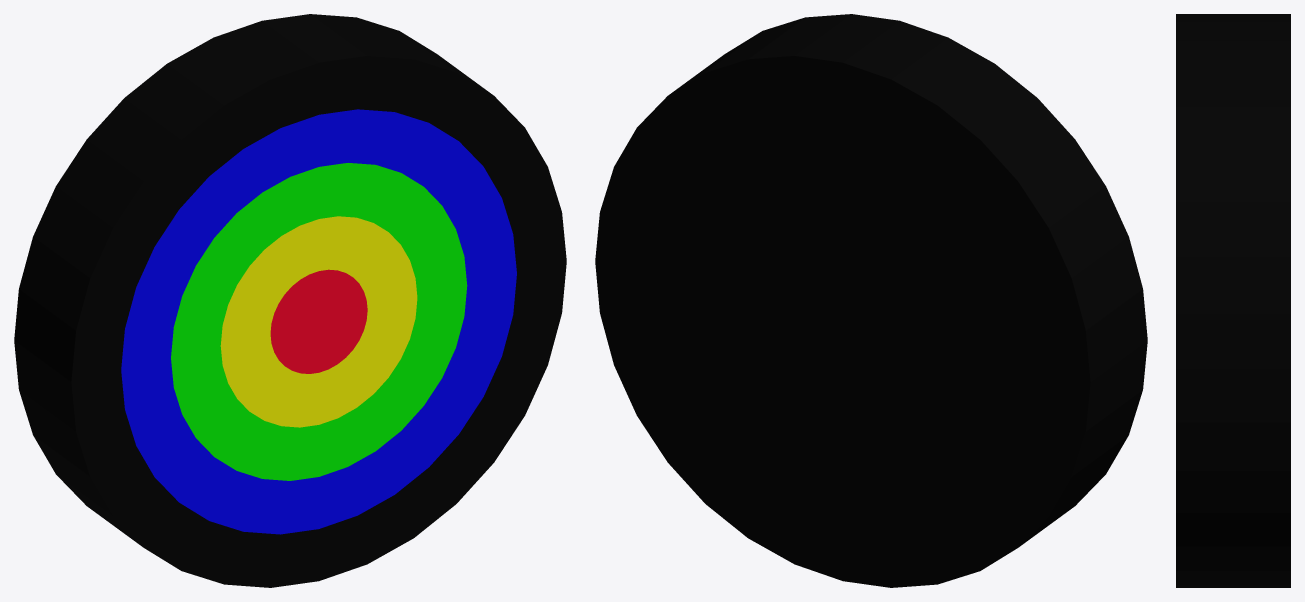
File: target.glb
The picture shows the model from 3 angles, left to right: view 1: azimuth 30°, elevation 25°; view 2: azimuth 150°, elevation 25°; view 3: azimuth 270°, elevation 25°; orthographic projection.
Visible parts, largest first — view 1: Cylinder; view 2: Cylinder; view 3: Cylinder.
Part boxes in pixels (x1,y1,x2,y2): Cylinder: (14, 14, 566, 587); Cylinder: (595, 14, 1147, 587); Cylinder: (1176, 14, 1290, 587).
Bounding box in the file's own units: 1 × 1 × 0.2.
